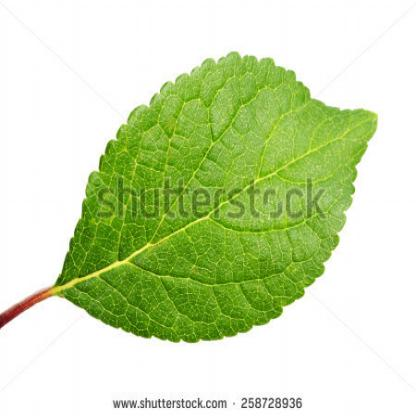apple leaf: (50, 44, 392, 354)
